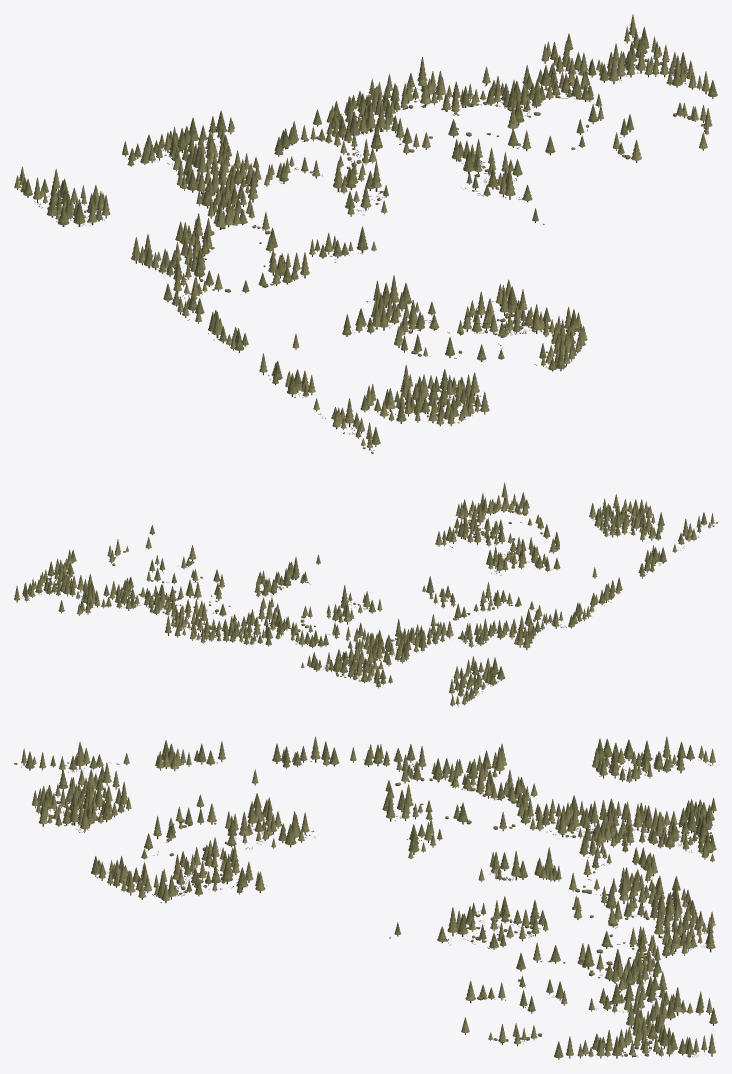
The model's file is Foliage_P1.fbx.
3 views of the same model, one above another, from view 1: azimuth 30°, elevation 25°; view 2: azimuth 150°, elevation 25°; view 3: azimuth 270°, elevation 25° (orthographic). The views are drawn at different scales.
Size of the model in its own units: 61633 by 5898 by 61166.
